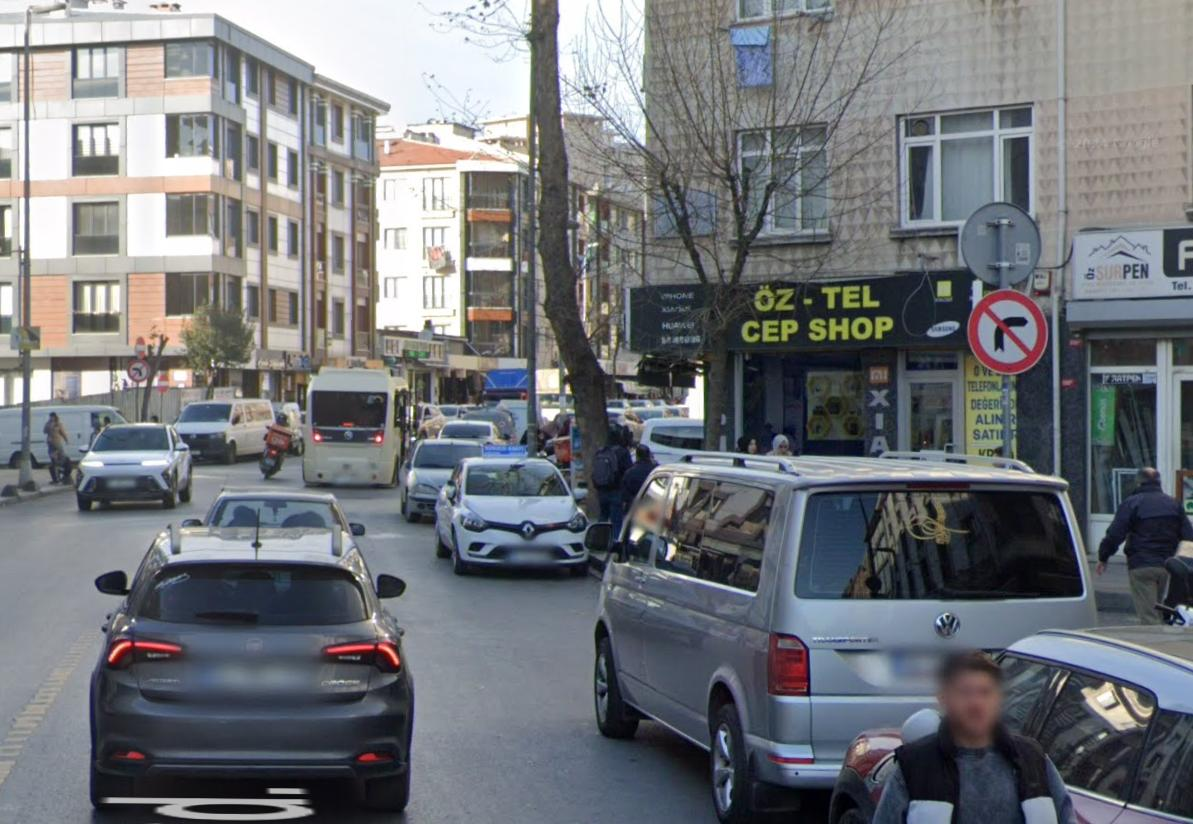leftturnsareforbidden: (127, 359, 150, 383)
rightturnsareforbidden: (973, 293, 1048, 373)
